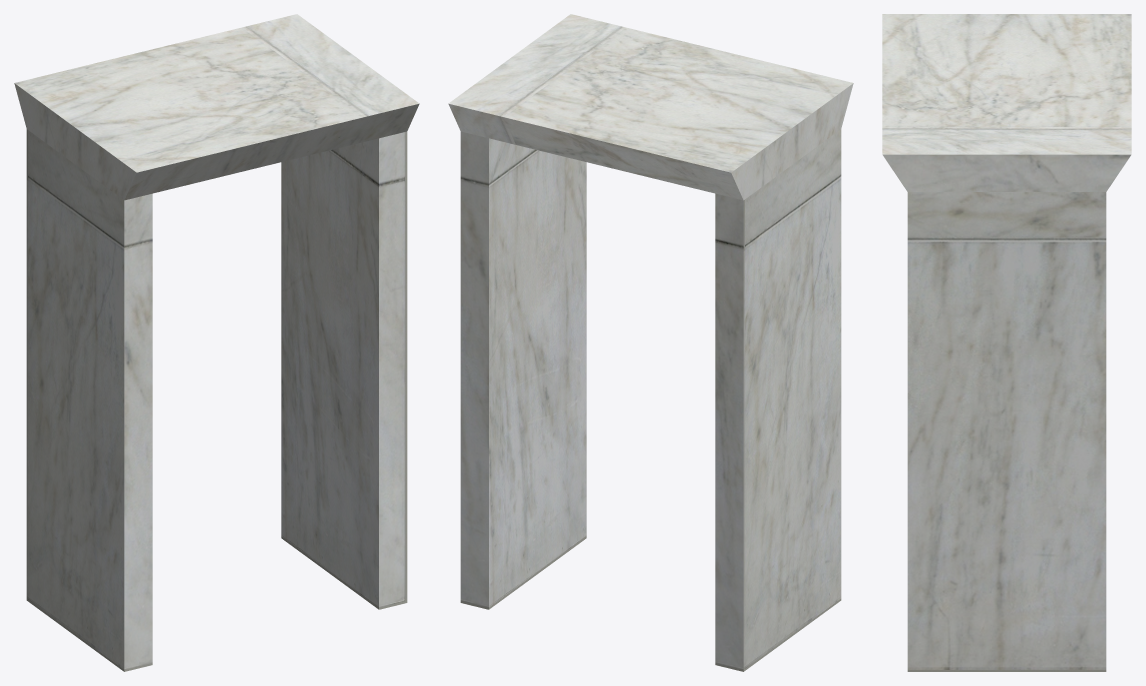
Rendered from WallsSmallEntrance.fbx.
3 views of the same model, side by side, from view 1: azimuth 30°, elevation 25°; view 2: azimuth 150°, elevation 25°; view 3: azimuth 270°, elevation 25° (orthographic).
Parts seen in each view (by area): view 1: Cube.001; view 2: Cube.001; view 3: Cube.001.
Boxes of the visible parts, x1,y1,x2,y2 form: Cube.001: (14, 14, 419, 671); Cube.001: (448, 14, 853, 671); Cube.001: (882, 14, 1131, 671).
Size of the model in its own units: 150 by 258 by 113.
